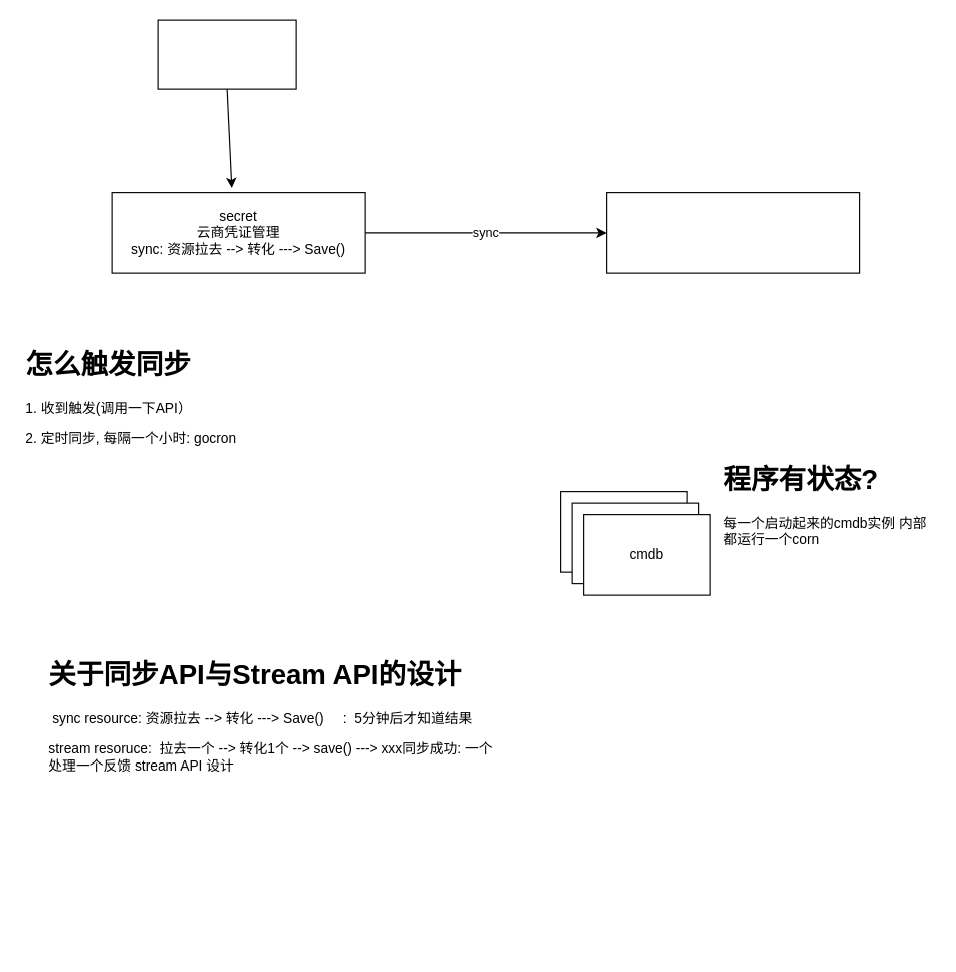
This 956x972 diagram has some shape labels left out. The centre of each missing label's shape, as x and y in pixels:
"k8s job(curl)/ crontab" goes at [226,54].
"resource + save + search(rpc)" goes at [732,232].
